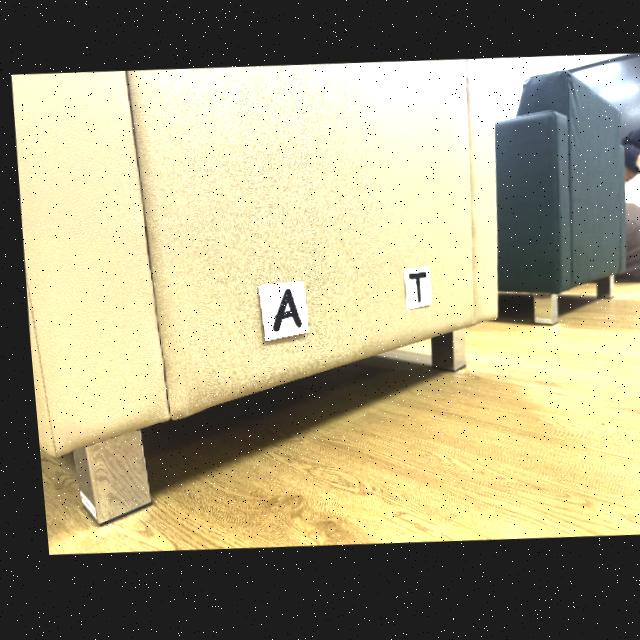A: (266, 291, 294, 334)
T: (402, 277, 421, 306)
